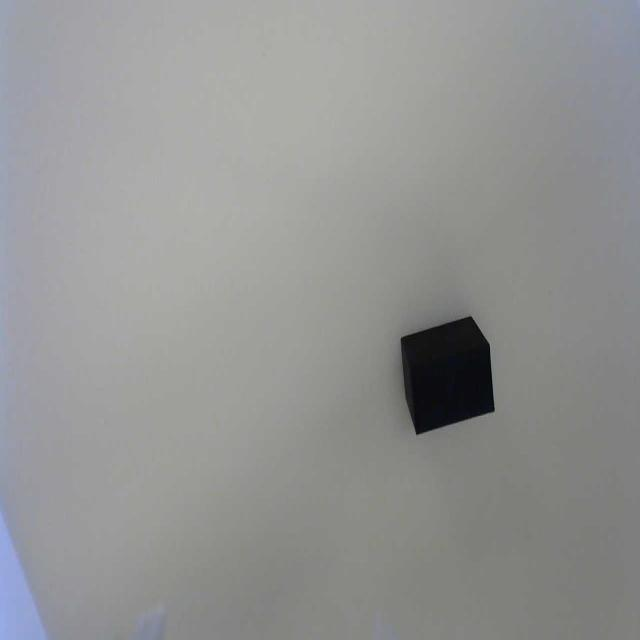rectangle: (412, 340, 496, 436)
